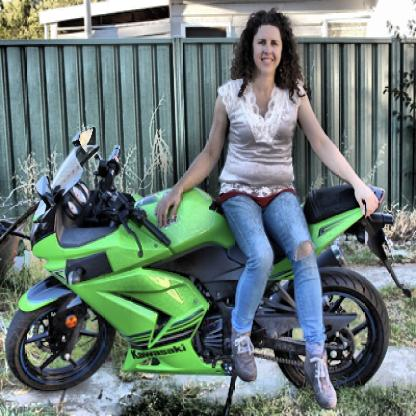not_wear: (245, 10, 295, 84)
